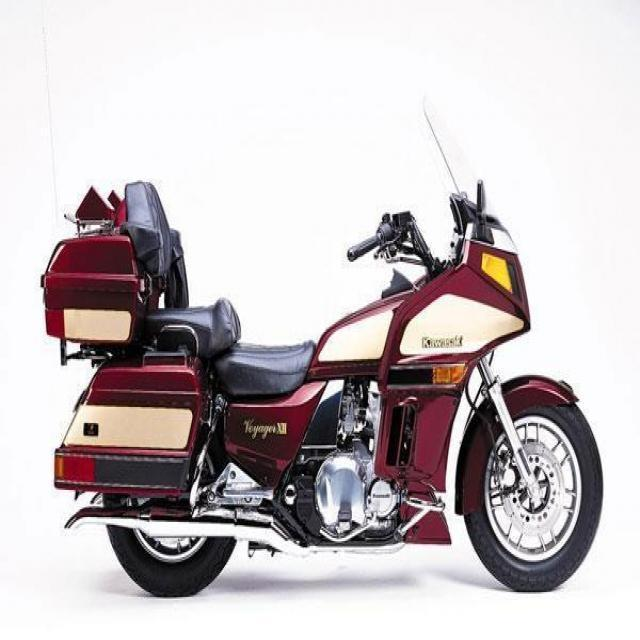Motorcycle: (41, 132, 603, 592)
